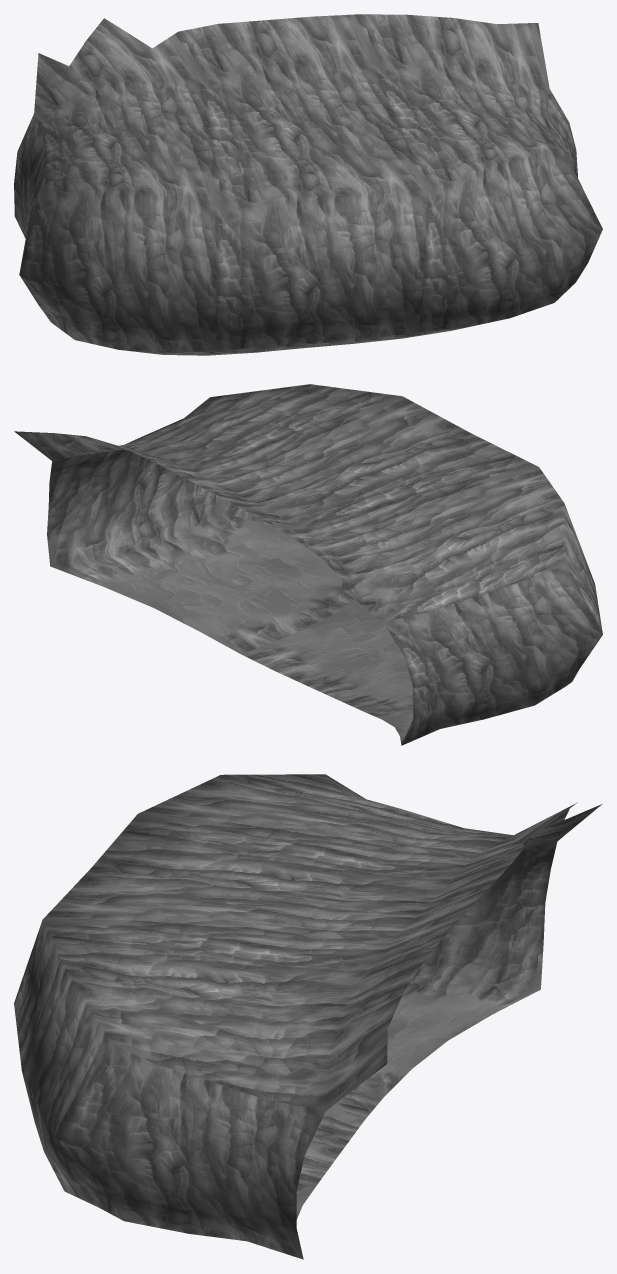
File: SWORDLIGHT20_PS-AREA04_03.fbx
3 views of the same model, one above another, from view 1: azimuth 30°, elevation 25°; view 2: azimuth 150°, elevation 25°; view 3: azimuth 270°, elevation 25° (orthographic). The views are drawn at different scales.
Visible parts, largest first — view 1: SWORDLIGHT20_PS-AREA04_03; view 2: SWORDLIGHT20_PS-AREA04_03; view 3: SWORDLIGHT20_PS-AREA04_03.
Part boxes in pixels (x1,y1,x2,y2): SWORDLIGHT20_PS-AREA04_03: (14, 14, 602, 355); SWORDLIGHT20_PS-AREA04_03: (14, 384, 602, 745); SWORDLIGHT20_PS-AREA04_03: (14, 774, 602, 1259).
Bounding box in the file's own units: 162196 × 64878 × 119412.
3 materials, 3 textured.
